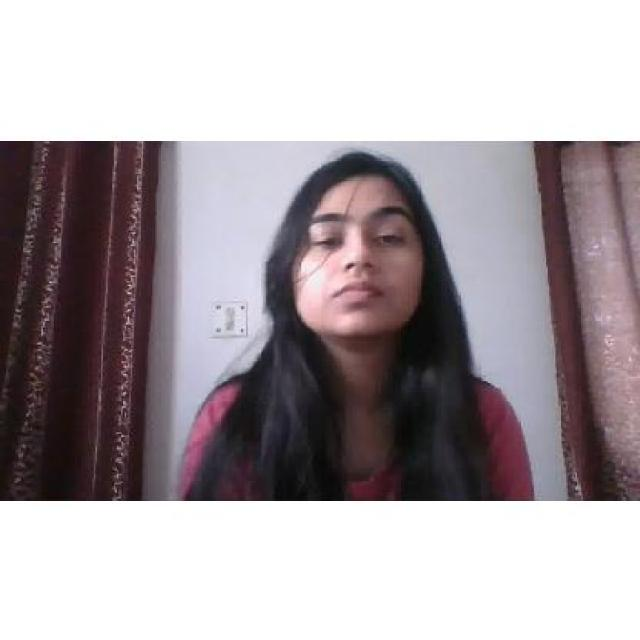inattentif: (293, 152, 424, 337)
